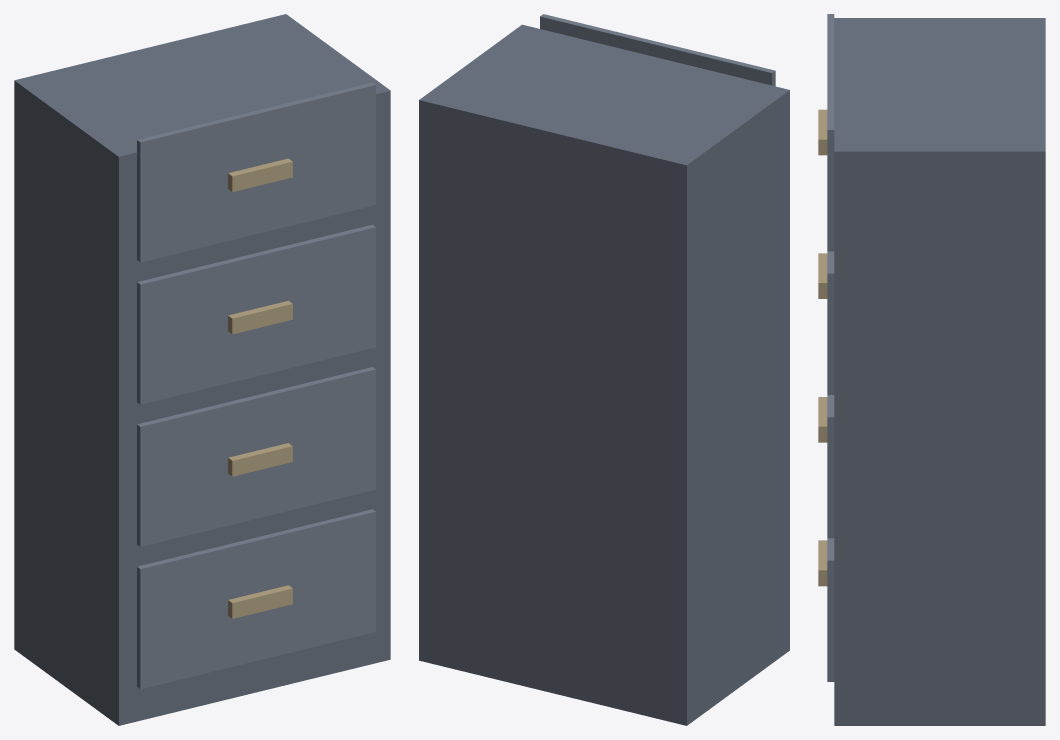
Rendered from archivador.glb.
3 views of the same model, side by side, from view 1: azimuth 30°, elevation 25°; view 2: azimuth 150°, elevation 25°; view 3: azimuth 270°, elevation 25° (orthographic). The views are drawn at different scales.
Parts seen in each view (by area): view 1: Archivador; view 2: Archivador; view 3: Archivador.
Boxes of the visible parts, bbox=[...] form: Archivador: bbox=[14, 14, 390, 725]; Archivador: bbox=[419, 14, 789, 725]; Archivador: bbox=[818, 14, 1045, 725].
Size of the model in its own units: 0.9 by 1.84 by 0.645.
